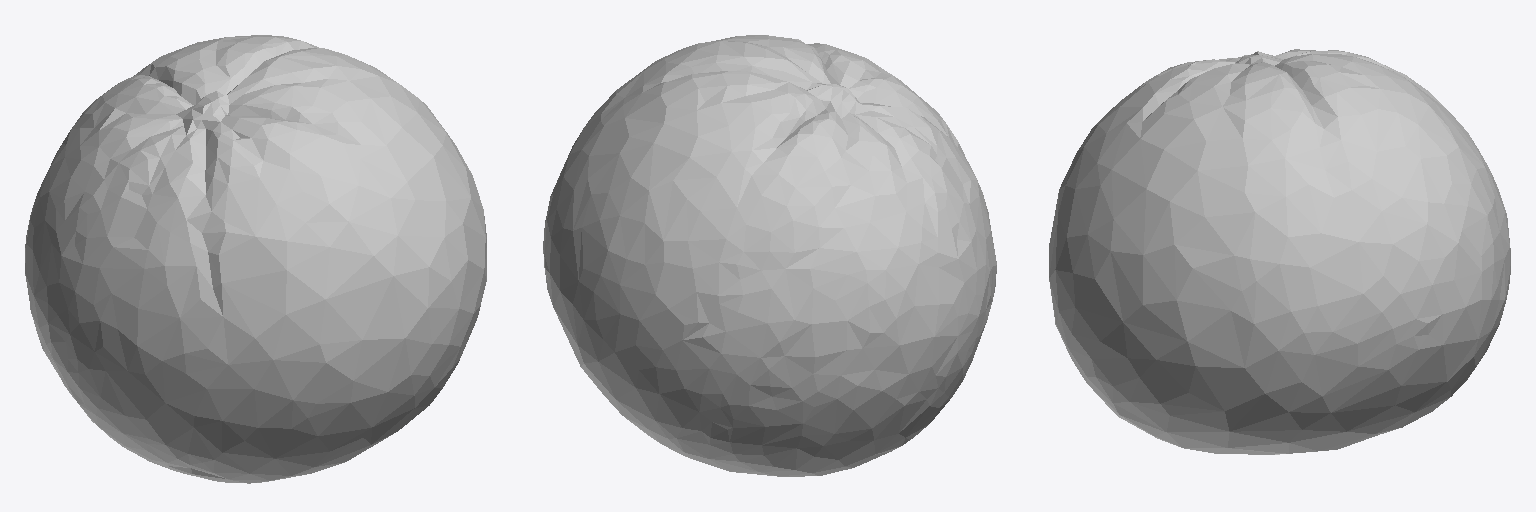
The model's file is orange7.obj.
3 renders of one model, left to right at view 1: azimuth 30°, elevation 25°; view 2: azimuth 150°, elevation 25°; view 3: azimuth 270°, elevation 25°, orthographic.
Parts seen in each view (by area): view 1: Orange6; view 2: Orange6; view 3: Orange6.
Part boxes in pixels (bbox=[...]): Orange6: bbox=[25, 35, 486, 483]; Orange6: bbox=[543, 35, 996, 476]; Orange6: bbox=[1049, 49, 1510, 454].
Bounding box in the file's own units: 2.47 × 2.29 × 2.48.